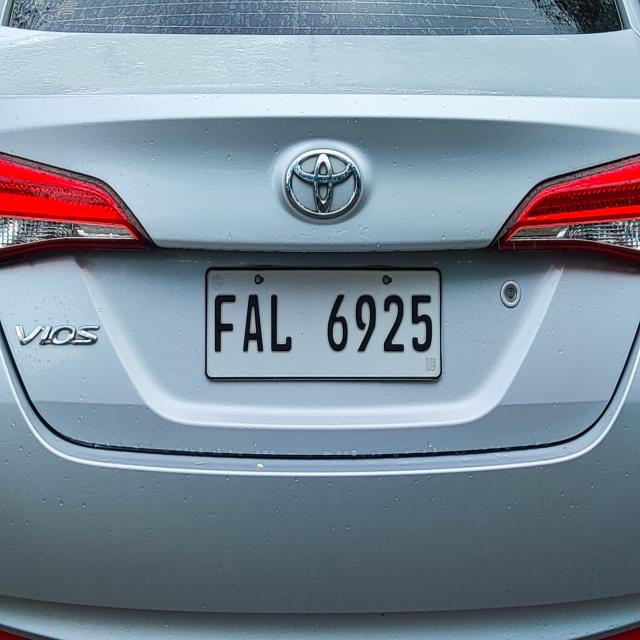plate: (202, 263, 445, 385)
